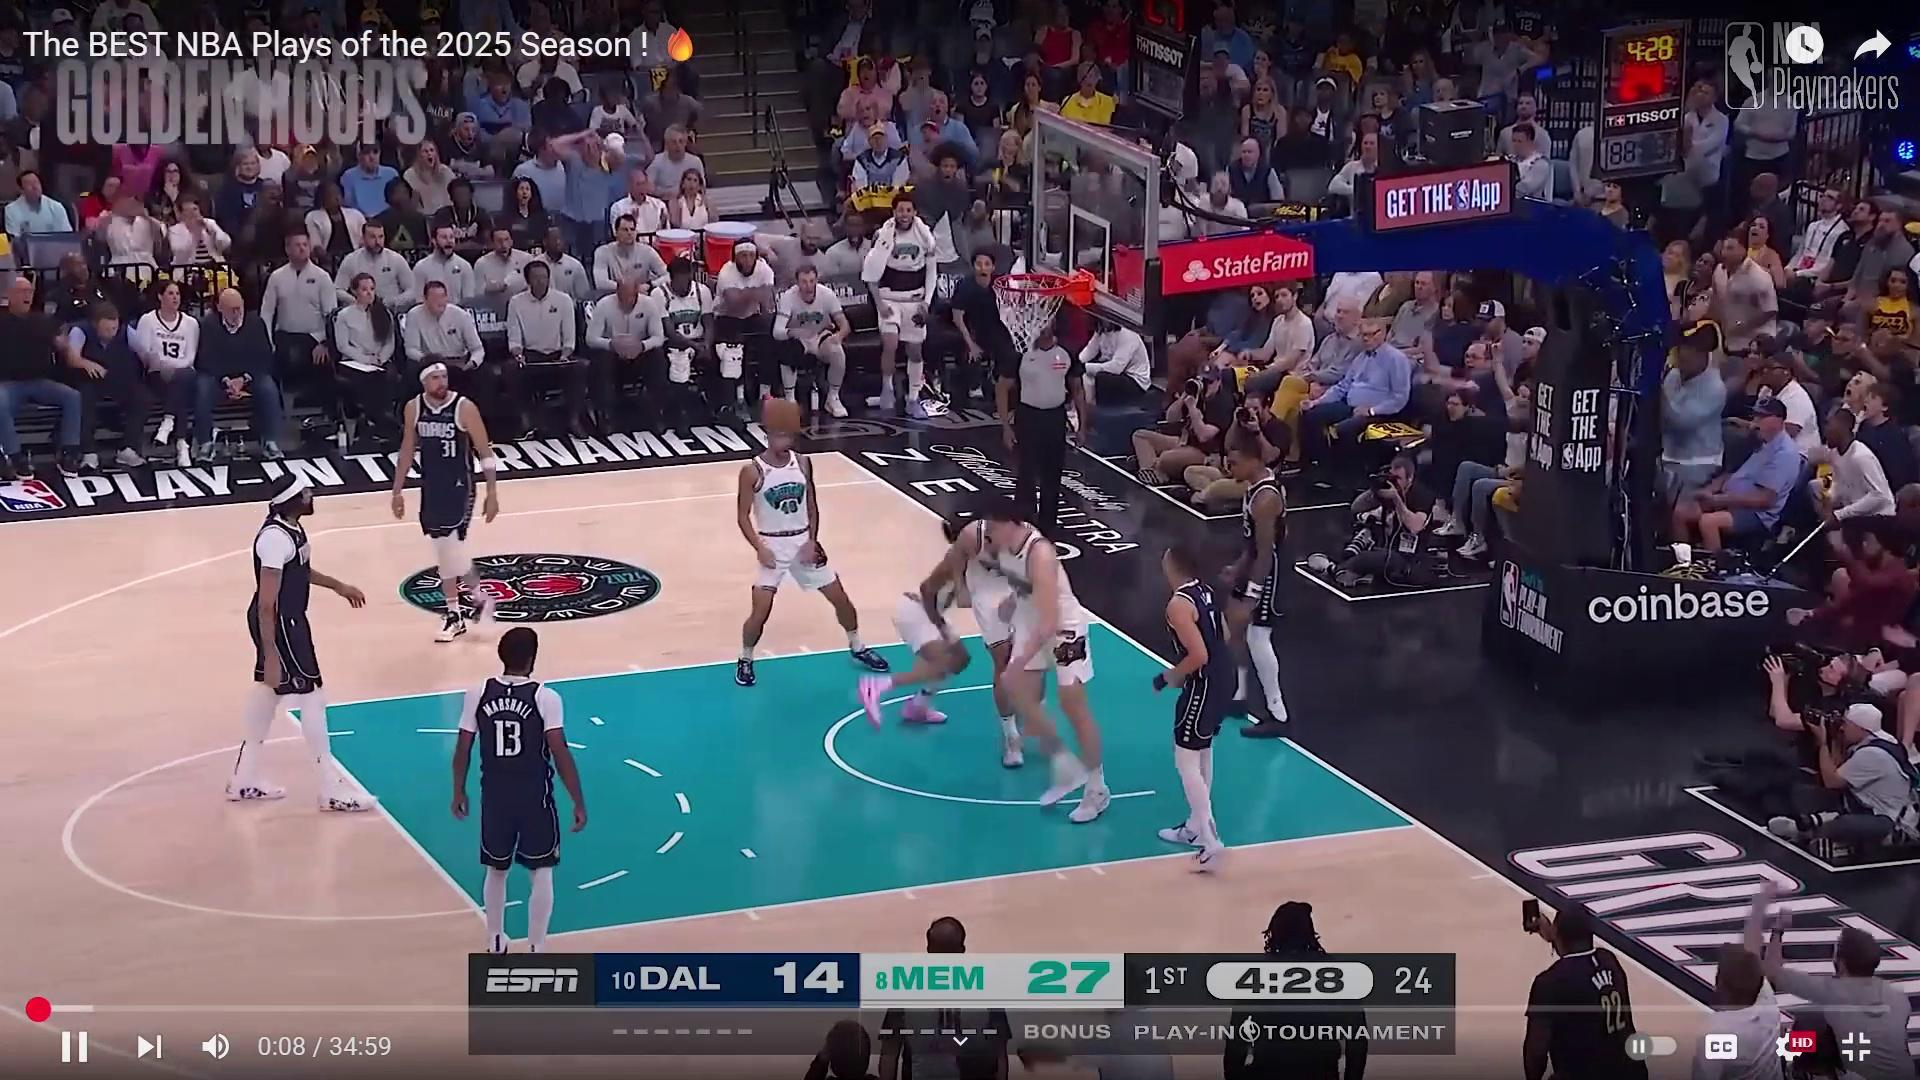ball: (762, 393, 803, 442)
hoop: (976, 256, 1067, 355)
